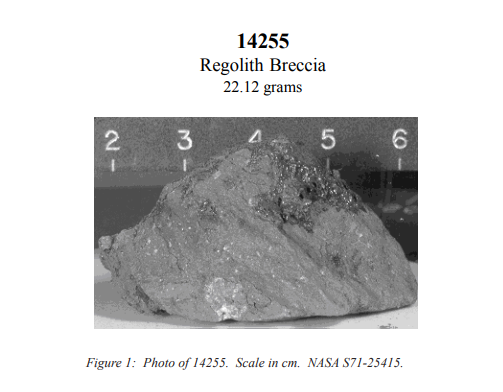Breccia: (96, 141, 419, 312)
